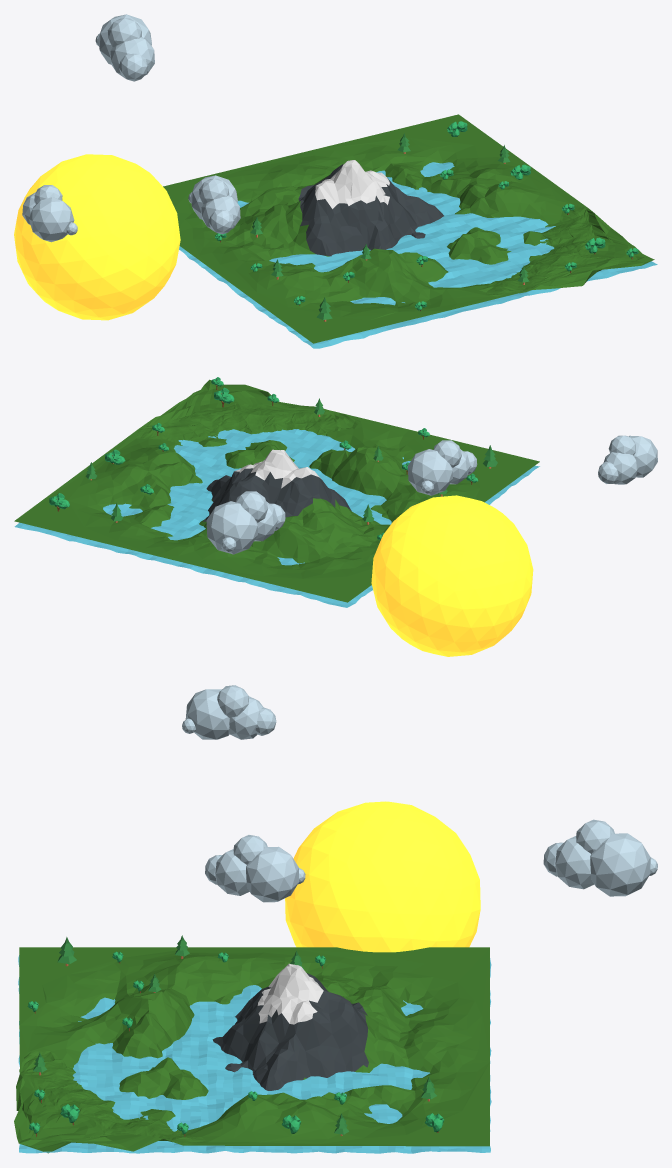
The picture shows the model from 3 angles, top to bottom: view 1: azimuth 30°, elevation 25°; view 2: azimuth 150°, elevation 25°; view 3: azimuth 270°, elevation 25°; orthographic projection. The views are drawn at different scales.
Parts seen in each view (by area): view 1: Landscape.019, ICO球, Landscape_plane.001, ICO球.002, ICO球.001, ICO球.004; view 2: Landscape.019, ICO球, Landscape_plane.001, ICO球.002, ICO球.001, ICO球.004; view 3: Landscape.019, ICO球, Landscape_plane.001, ICO球.002, ICO球.001, ICO球.004.
Part boxes in pixels (bbox=[...]): Landscape.019: bbox=[163, 114, 654, 343]; ICO球: bbox=[14, 154, 180, 320]; Landscape_plane.001: bbox=[179, 162, 657, 348]; ICO球.002: bbox=[95, 14, 154, 81]; ICO球.001: bbox=[188, 175, 240, 234]; ICO球.004: bbox=[22, 185, 77, 242]; Landscape.019: bbox=[14, 379, 539, 602]; ICO球: bbox=[371, 495, 533, 656]; Landscape_plane.001: bbox=[14, 429, 539, 607]; ICO球.002: bbox=[206, 491, 285, 554]; ICO球.001: bbox=[407, 440, 477, 495]; ICO球.004: bbox=[598, 435, 657, 484]; Landscape.019: bbox=[14, 947, 489, 1153]; ICO球: bbox=[285, 801, 480, 952]; Landscape_plane.001: bbox=[18, 955, 491, 1153]; ICO球.002: bbox=[543, 819, 657, 896]; ICO球.001: bbox=[205, 835, 305, 902]; ICO球.004: bbox=[182, 685, 276, 739].
Size of the model in its own units: 3.17 by 1.12 by 2.74.
